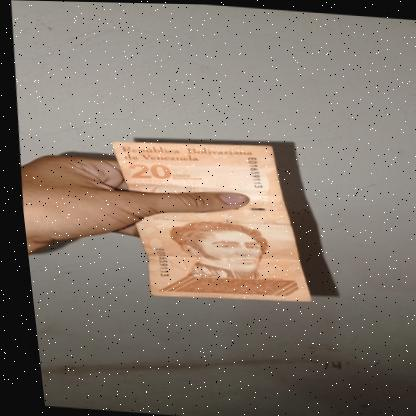twenty-front-vef: (97, 133, 314, 307)
